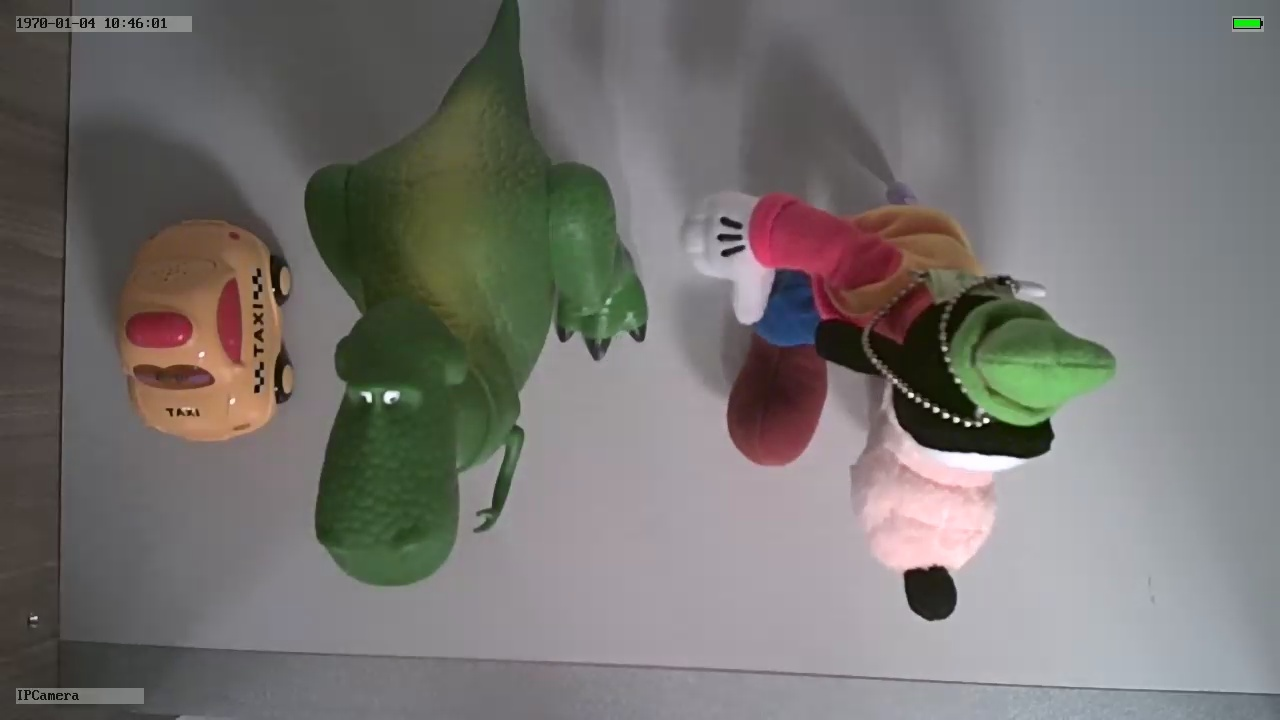car: (113, 207, 294, 445)
goofy: (676, 182, 1120, 623)
rex: (301, 51, 652, 590)
